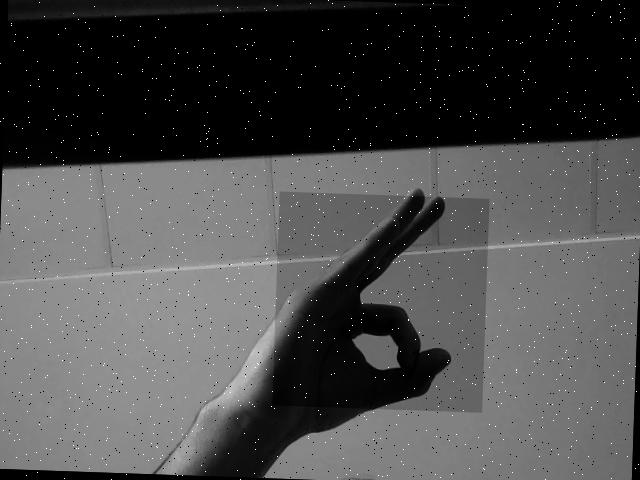OK: (272, 192, 490, 412)
